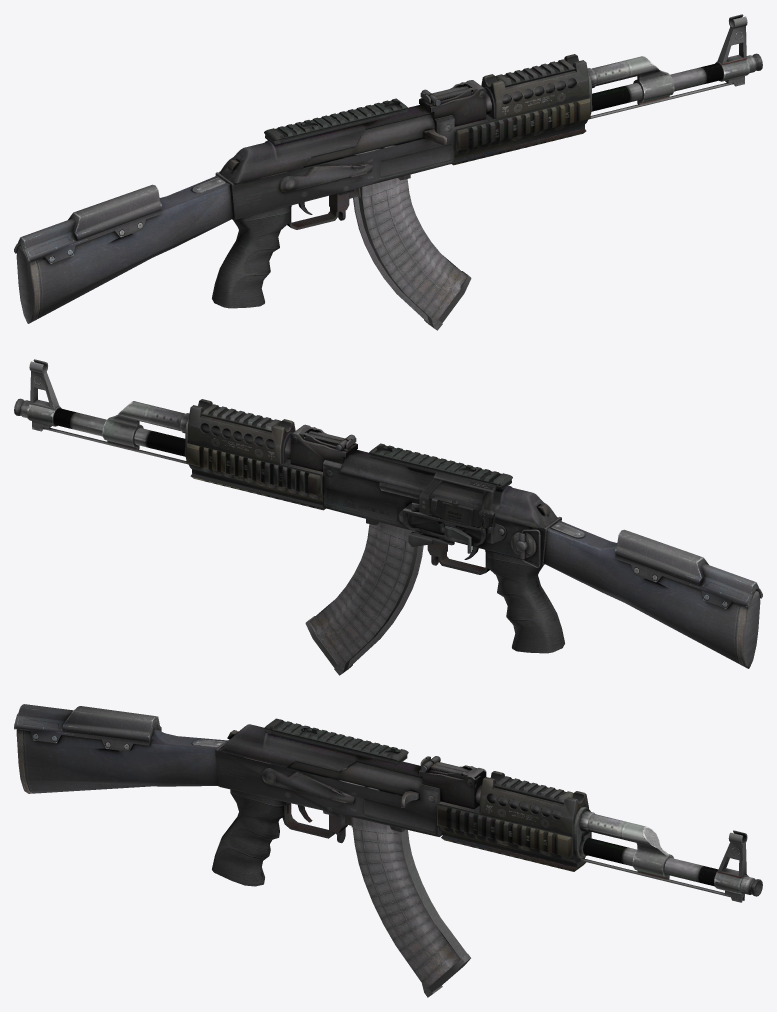
3 views of the same model, one above another, from view 1: azimuth 30°, elevation 25°; view 2: azimuth 150°, elevation 25°; view 3: azimuth 330°, elevation 25° (orthographic).
Parts seen in each view (by area): view 1: AR_AK47_Barrel_000_L0; view 2: AR_AK47_Barrel_000_L0; view 3: AR_AK47_Barrel_000_L0.
Part boxes in pixels (left/top/right/bottom): AR_AK47_Barrel_000_L0: left=14, top=14, right=762, bottom=330; AR_AK47_Barrel_000_L0: left=14, top=359, right=762, bottom=675; AR_AK47_Barrel_000_L0: left=14, top=704, right=762, bottom=997.
Bounding box in the file's own units: 84.09 × 25.68 × 6.96.
4 materials, 4 textured.
